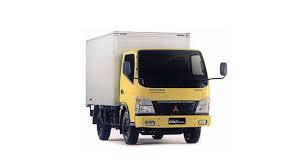truck: (113, 44, 230, 147)
